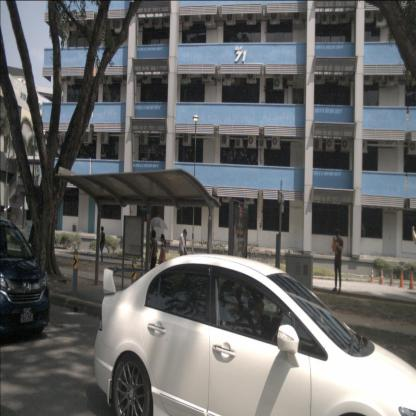cone: (408, 272, 415, 290), (398, 271, 405, 289), (388, 271, 395, 286), (379, 269, 385, 285), (370, 268, 375, 284)
